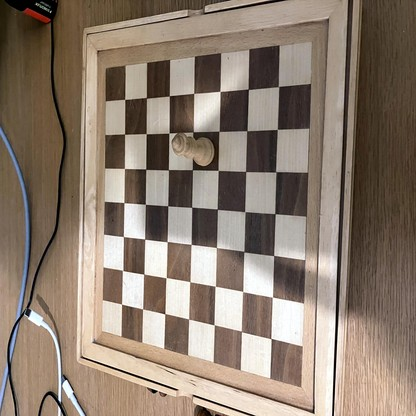queen_white: (172, 134, 215, 167)
